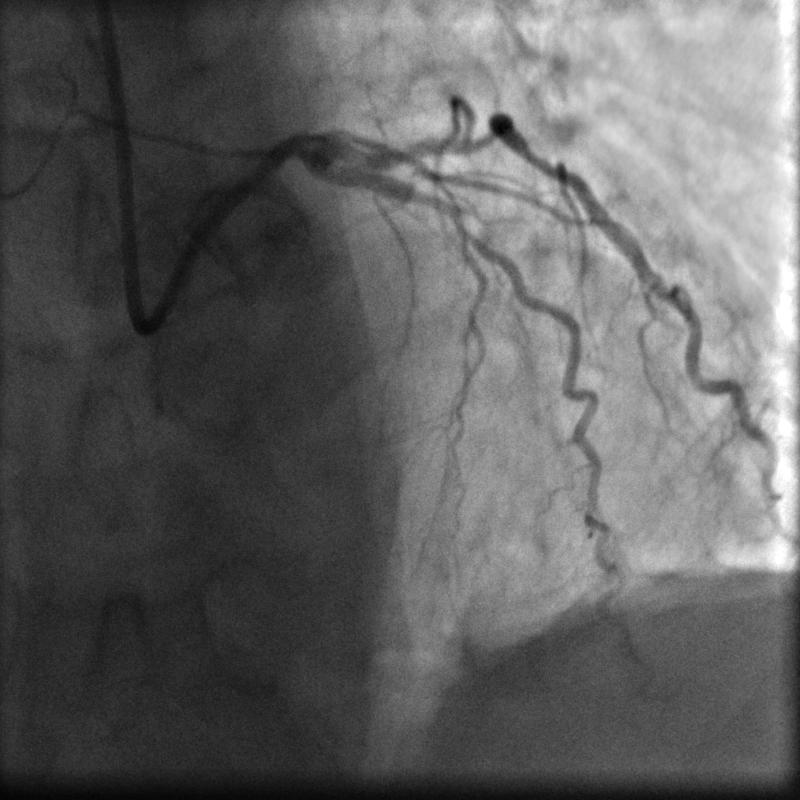Stenosis: (404, 171, 455, 226)
